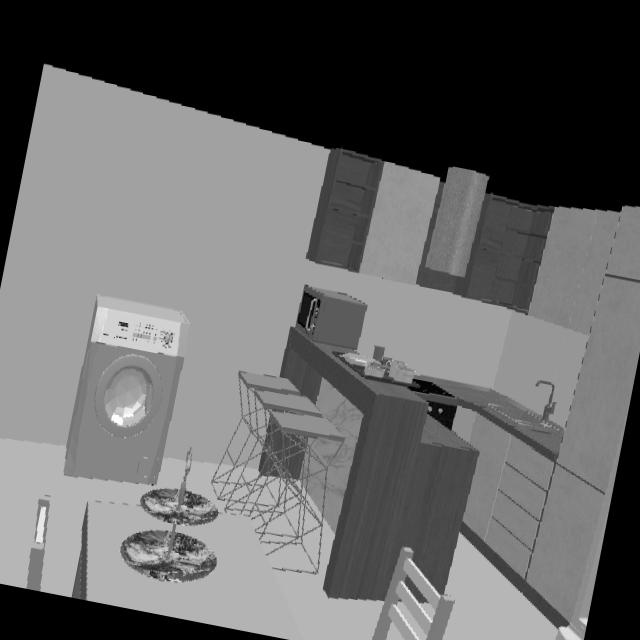countertop: (448, 388, 560, 453)
microwave: (294, 286, 369, 355)
oven: (426, 400, 457, 434)
sink: (487, 405, 562, 435)
stove: (415, 381, 457, 398)
table: (77, 501, 303, 640)
